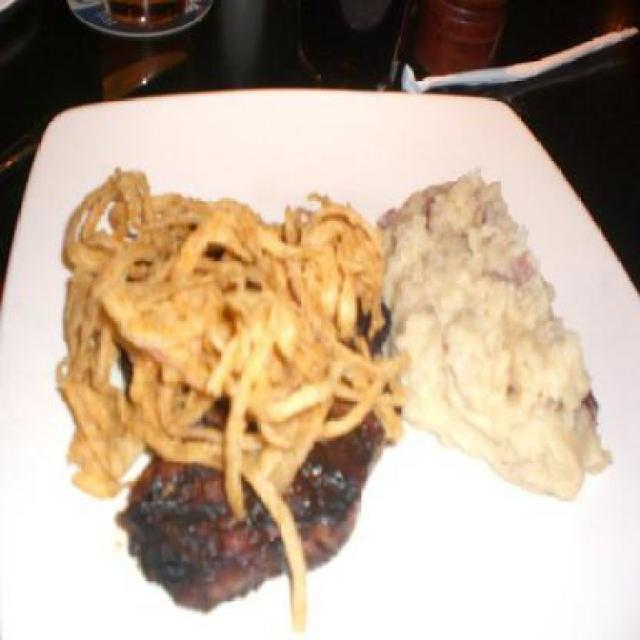French fries: (80, 160, 437, 448)
Steak: (112, 412, 430, 606)
